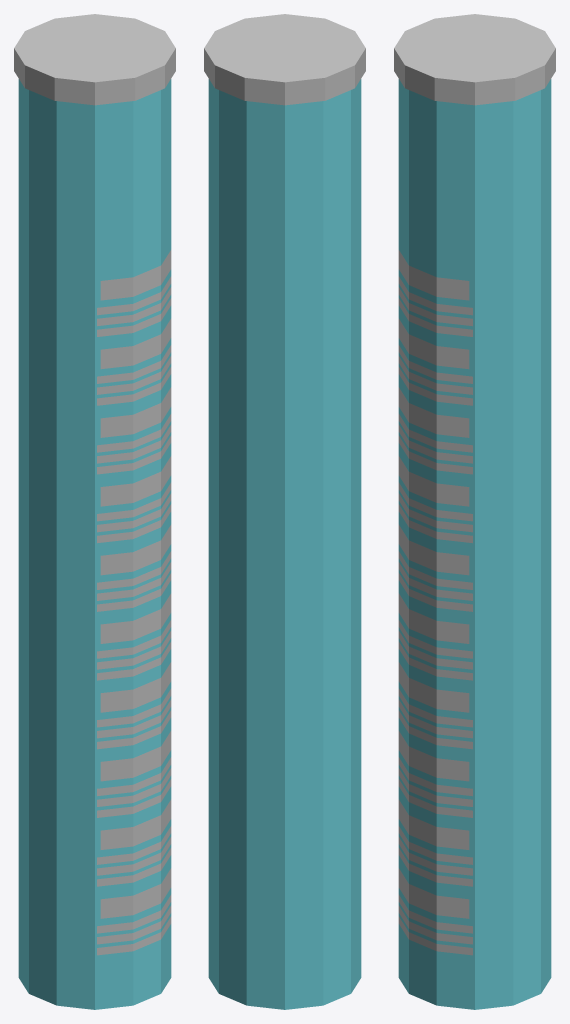
File: SM_Medicine_Glass_02.gltf
The picture shows the model from 3 angles, left to right: view 1: azimuth 30°, elevation 25°; view 2: azimuth 150°, elevation 25°; view 3: azimuth 270°, elevation 25°; orthographic projection.
Parts seen in each view (by area): view 1: SM_Medicine_Glass_02, SM_Medicine_Glass_Lid_02; view 2: SM_Medicine_Glass_02, SM_Medicine_Glass_Lid_02; view 3: SM_Medicine_Glass_02, SM_Medicine_Glass_Lid_02.
Boxes of the visible parts, box(x1,y1,x2,y2) form: SM_Medicine_Glass_02: box(18, 79, 171, 1009); SM_Medicine_Glass_Lid_02: box(14, 14, 175, 105); SM_Medicine_Glass_02: box(208, 79, 361, 1009); SM_Medicine_Glass_Lid_02: box(204, 14, 365, 105); SM_Medicine_Glass_02: box(398, 79, 551, 1009); SM_Medicine_Glass_Lid_02: box(394, 14, 555, 105).
Bounding box in the file's own units: 0.0387 × 0.2452 × 0.0387.
